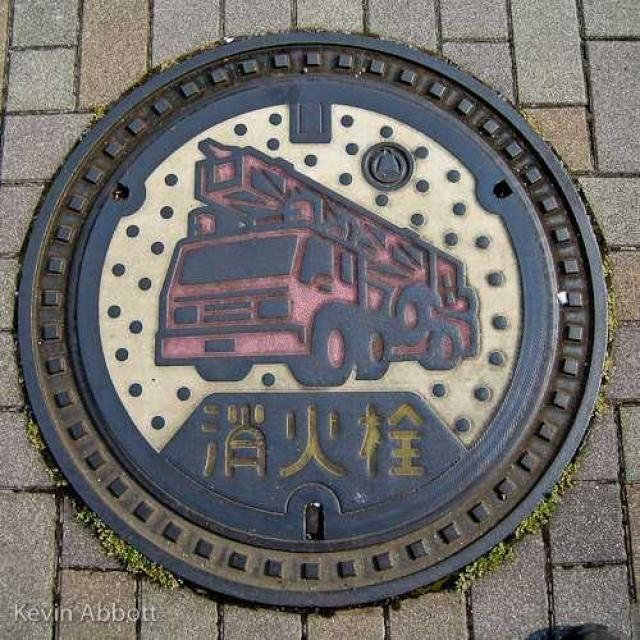manhole: (15, 32, 611, 613)
